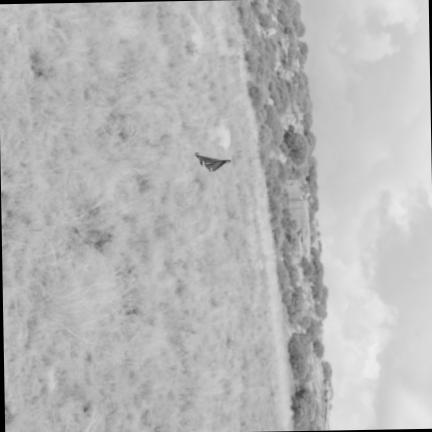Shahed: (194, 153, 228, 171)
